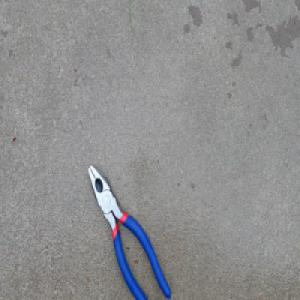Pliers: (87, 163, 171, 300)
